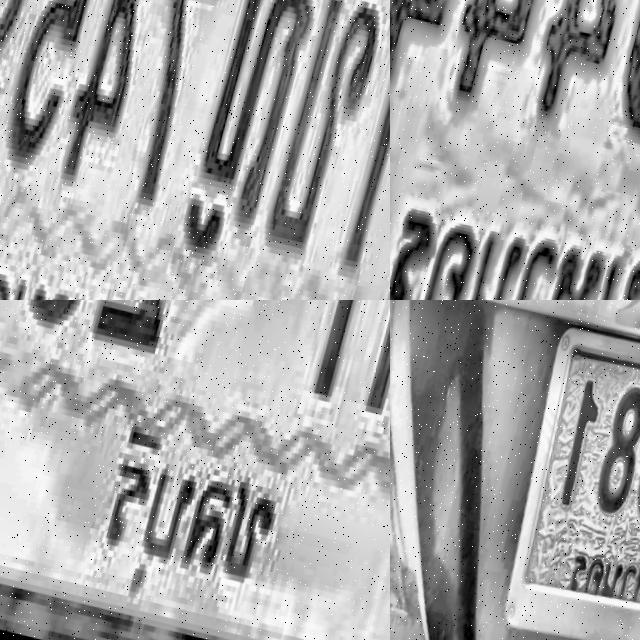license-plate: (0, 300, 390, 640), (0, 0, 390, 300), (390, 0, 640, 300), (485, 300, 640, 640)
